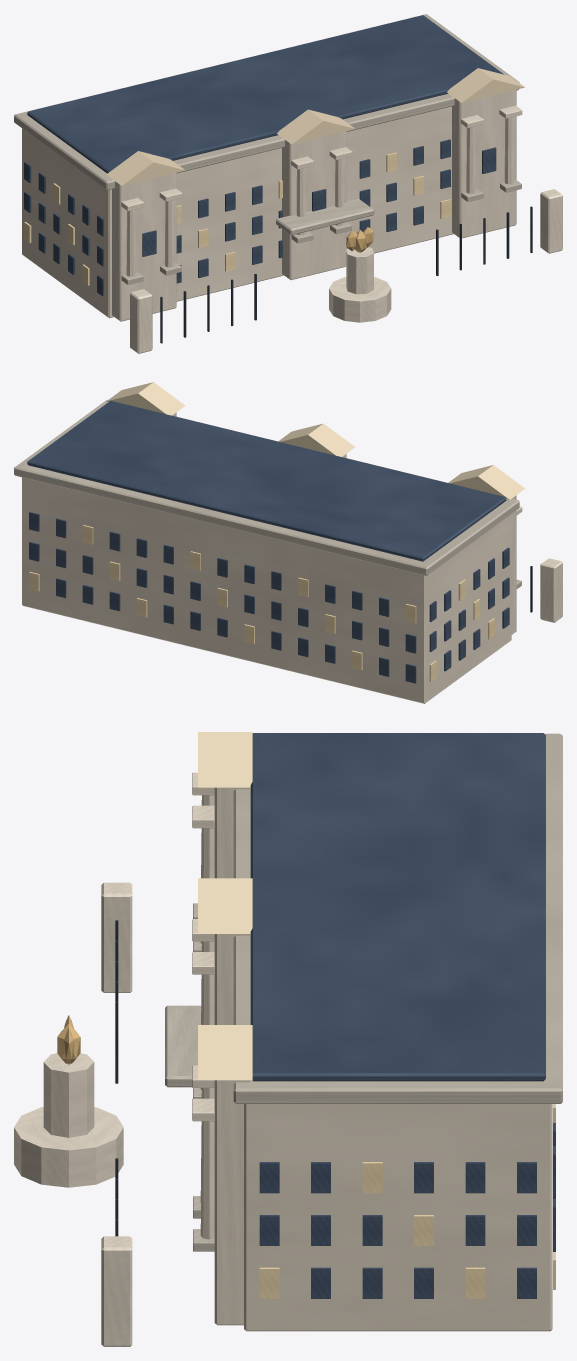
The model's file is buckingham-palace.glb.
3 renders of one model, top to bottom at view 1: azimuth 30°, elevation 25°; view 2: azimuth 150°, elevation 25°; view 3: azimuth 270°, elevation 25°, orthographic. The views are drawn at different scales.
Parts seen in each view (by area): view 1: buckingham-palace; view 2: buckingham-palace; view 3: buckingham-palace.
Part boxes in pixels (x1,y1,x2,y2): buckingham-palace: (14, 14, 562, 353); buckingham-palace: (14, 382, 562, 703); buckingham-palace: (14, 732, 562, 1346).
Size of the model in its own units: 12.65 by 4.6 by 8.
Materials: 1 (1 with a texture image).
